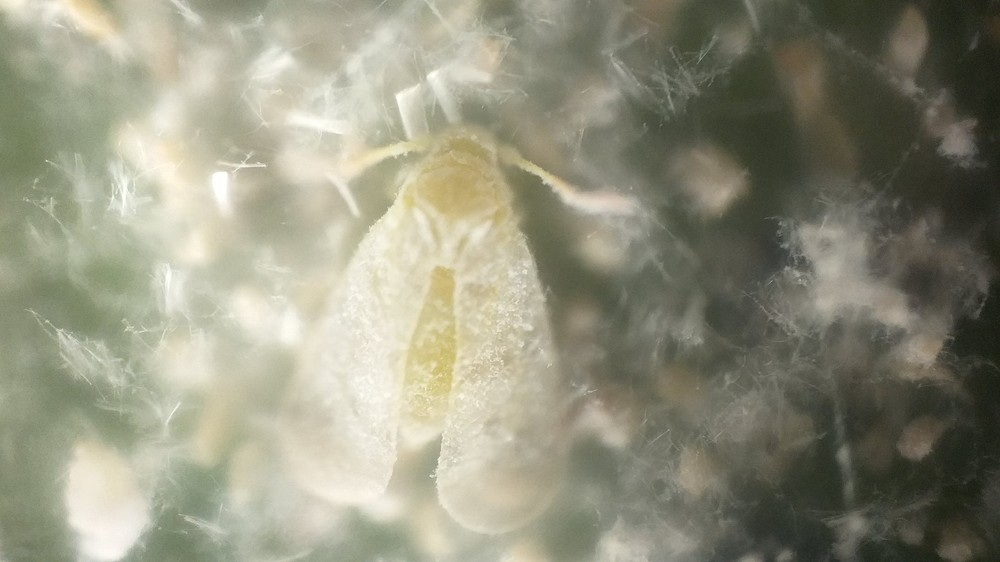Mosca Blanca: (254, 116, 663, 530)
